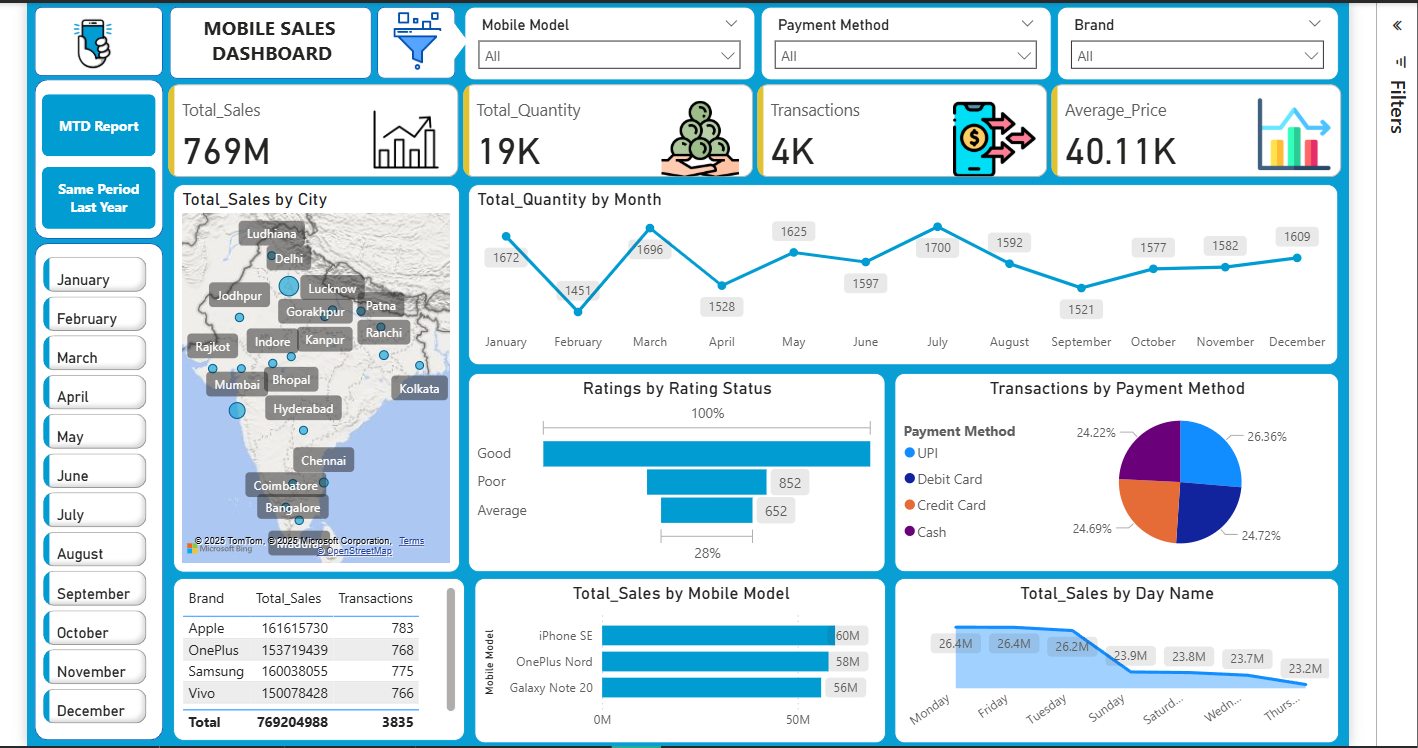

The page's visual inventory and layout, read from the dashboard file:
{"tool":"powerbi","page":{"name":"Dashboard","canvas":[1280,720],"ordinal":0},"visuals":[{"type":"shape","box":[7.5,3.8,125,67.5],"z":0},{"type":"image","box":[23.8,3.8,78.8,71.2],"z":1000},{"type":"shape","box":[7.5,73.8,125,155],"z":2000},{"type":"shape","box":[7.5,232.5,125,481.2],"z":3000},{"type":"advancedSlicerVisual","fields":{"Values":["Custom_Calendar.Date.Variation.Date Hierarchy.Month"]},"box":[11.2,241.2,110,472.5],"z":4000},{"type":"cardVisual","fields":{"Data":["Sales_Data.Total_Sales","Sales_Data.Total_Quantity","Sales_Data.Transactions","Sales_Data.Average_Price"]},"box":[132.5,73.8,1147.5,100],"z":5000},{"type":"slicer","fields":{"Values":["Sales_Data.Mobile Model"]},"box":[423.8,3.8,281.2,71.2],"z":6000},{"type":"slicer","fields":{"Values":["Sales_Data.Payment Method"]},"box":[710,3.8,281.2,71.2],"z":7000},{"type":"slicer","fields":{"Values":["Sales_Data.Brand"]},"box":[997.5,3.8,272.5,71.2],"z":8000},{"type":"shape","box":[338.8,3.8,76.2,70],"z":9000},{"type":"image","box":[337.5,3.8,81.2,66.2],"z":10000},{"type":"shape","box":[397.5,17.5,30,40],"z":11000},{"type":"shape","box":[137.5,3.8,196.2,70],"z":12000},{"type":"textbox","box":[156.2,6.2,162.5,63.8],"z":13000},{"type":"map","fields":{"Category":["Sales_Data.City"],"Size":["Sales_Data.Total_Sales"]},"box":[141.2,175,277.5,376.2],"z":14000},{"type":"lineChart","fields":{"Y":["Sales_Data.Total_Quantity"],"Category":["Custom_Calendar.Date.Variation.Date Hierarchy.Month"]},"box":[427.5,175,842.5,175],"z":15000},{"type":"funnel","title":"Ratings by Rating Status","fields":{"Y":["Sum(Sales_Data.Customer Ratings)"],"Category":["Sales_Data.Rating Status"]},"box":[427.5,358.8,403.8,192.5],"z":16000},{"type":"pieChart","fields":{"Y":["Sales_Data.Transactions"],"Category":["Sales_Data.Payment Method"]},"box":[840,358.8,430,192.5],"z":17000},{"type":"clusteredBarChart","fields":{"Y":["Sales_Data.Total_Sales"],"Category":["Sales_Data.Mobile Model"]},"box":[433.8,556.2,398.8,160],"z":18000},{"type":"areaChart","fields":{"Y":["Sales_Data.Total_Sales"],"Category":["Custom_Calendar.Day Name"]},"box":[840,556.2,430,160],"z":19000},{"type":"tableEx","fields":{"Values":["Sales_Data.Brand","Sales_Data.Total_Sales","Sales_Data.Transactions"]},"box":[141.2,556.2,282.5,157.5],"z":20000},{"type":"pageNavigator","box":[15,88.8,110,130],"z":21000}]}

Visuals, with their boxes in screenshot pixels (x1, y1, x2, y2):
shape: select_region(34, 4, 162, 73)
image: select_region(50, 4, 131, 77)
shape: select_region(34, 76, 162, 235)
shape: select_region(34, 239, 162, 733)
advancedSlicerVisual - Custom_Calendar.Date.Variation.Date Hierarchy.Month: select_region(37, 248, 150, 733)
cardVisual - Sales_Data.Total_Sales x Sales_Data.Total_Quantity: select_region(162, 76, 1340, 178)
slicer - Sales_Data.Mobile Model: select_region(461, 4, 750, 77)
slicer - Sales_Data.Payment Method: select_region(755, 4, 1044, 77)
slicer - Sales_Data.Brand: select_region(1050, 4, 1330, 77)
shape: select_region(374, 4, 452, 76)
image: select_region(372, 4, 456, 72)
shape: select_region(434, 18, 465, 59)
shape: select_region(167, 4, 368, 76)
textbox: select_region(186, 6, 353, 72)
map - Sales_Data.City x Sales_Data.Total_Sales: select_region(171, 180, 456, 566)
lineChart - Sales_Data.Total_Quantity x Custom_Calendar.Date.Variation.Date Hierarchy.Month: select_region(465, 180, 1330, 359)
"Ratings by Rating Status" funnel: select_region(465, 368, 879, 566)
pieChart - Sales_Data.Transactions x Sales_Data.Payment Method: select_region(888, 368, 1330, 566)
clusteredBarChart - Sales_Data.Total_Sales x Sales_Data.Mobile Model: select_region(471, 571, 881, 735)
areaChart - Sales_Data.Total_Sales x Custom_Calendar.Day Name: select_region(888, 571, 1330, 735)
tableEx - Sales_Data.Brand x Sales_Data.Total_Sales: select_region(171, 571, 461, 733)
pageNavigator: select_region(41, 91, 154, 225)
